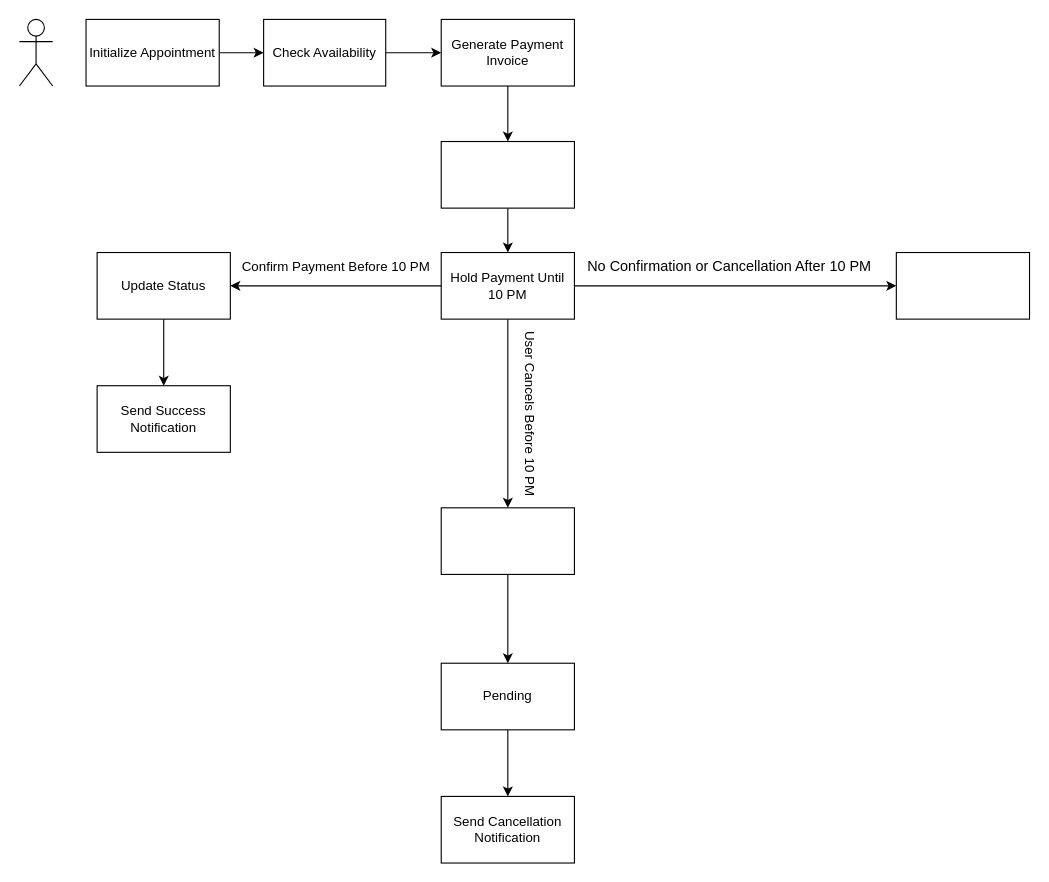
The diagram is 1049 pixels wide and 882 high, and some of its shapes have lost their labels. The centre of each missing label's shape, as x and y in pixels:
Contact To Support: the point at 962,285
Process Payment: the point at 507,174
User: the point at 35,52
Waiting for confirmation: the point at 507,540
